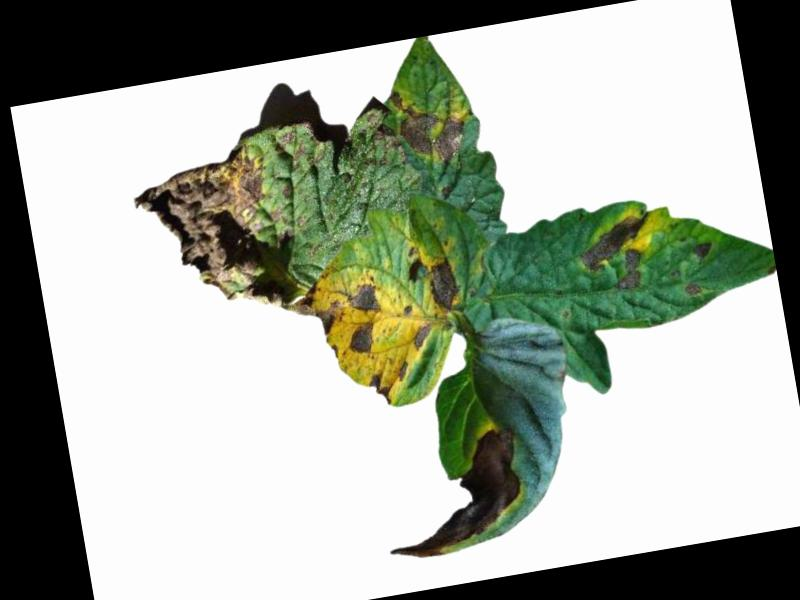Early_blight: (128, 142, 294, 327), (372, 426, 531, 564), (385, 75, 469, 172), (574, 211, 660, 299), (278, 275, 347, 344), (422, 256, 463, 319), (343, 275, 384, 317), (365, 105, 395, 157), (344, 321, 378, 357), (366, 370, 394, 409), (408, 324, 437, 351), (273, 128, 298, 153), (692, 240, 714, 262), (396, 363, 410, 383), (683, 282, 702, 296)
